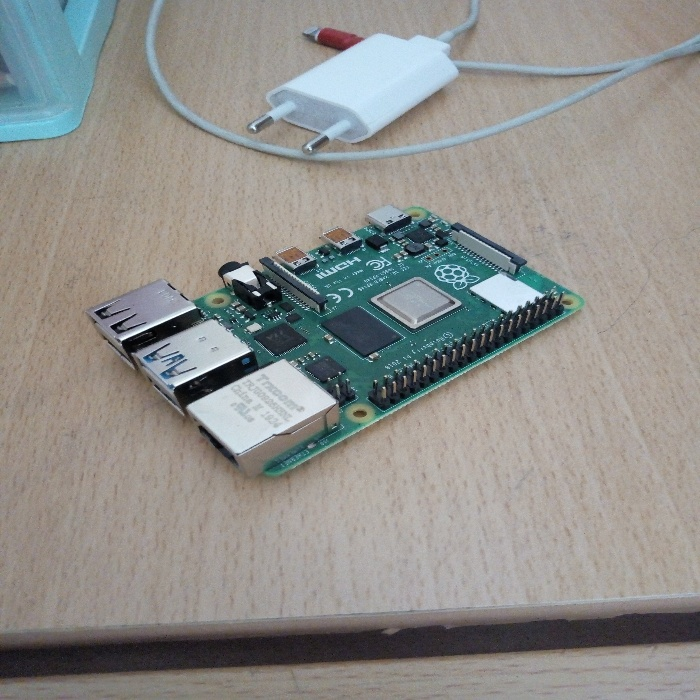raspberry: (58, 172, 580, 475)
